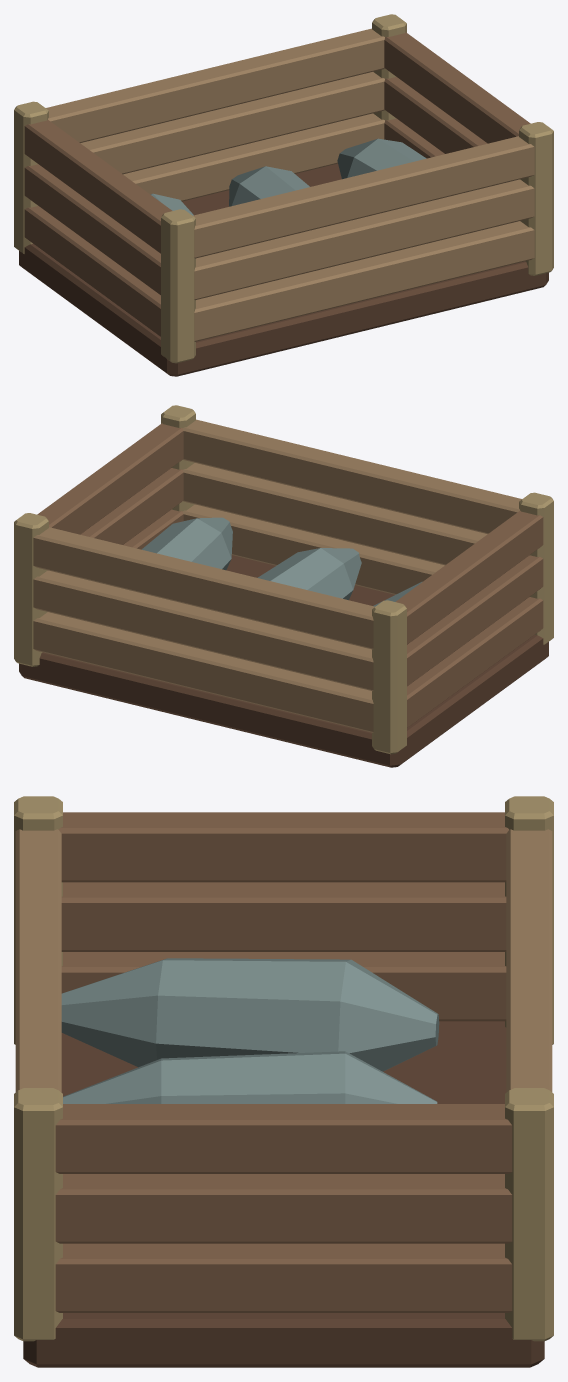
Rendered from fish-basket.glb.
The picture shows the model from 3 angles, top to bottom: view 1: azimuth 30°, elevation 25°; view 2: azimuth 150°, elevation 25°; view 3: azimuth 270°, elevation 25°; orthographic projection. The views are drawn at different scales.
Visible parts, largest first — view 1: fish-basket__body; view 2: fish-basket__body; view 3: fish-basket__body.
Boxes of the visible parts, x1,y1,x2,y2 form: fish-basket__body: (14,14,553,376); fish-basket__body: (14,405,553,767); fish-basket__body: (14,796,553,1367).
Bounding box in the file's own units: 0.482 × 0.19 × 0.352.
